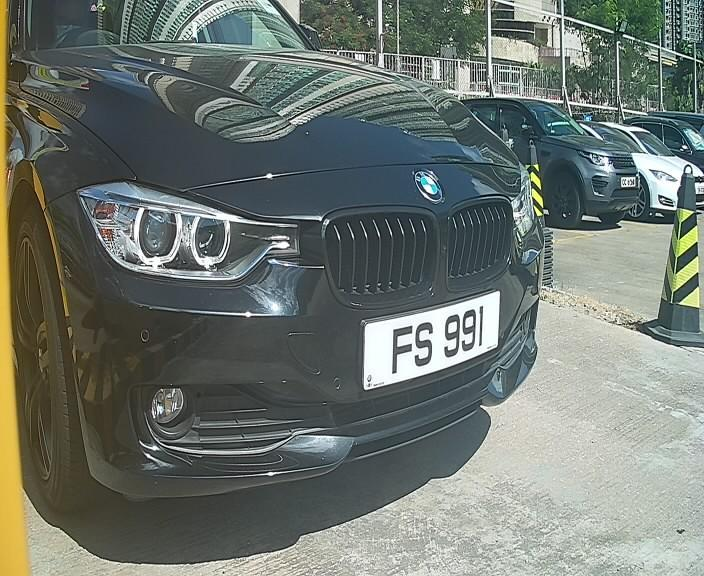privatecar: (16, 19, 557, 497)
